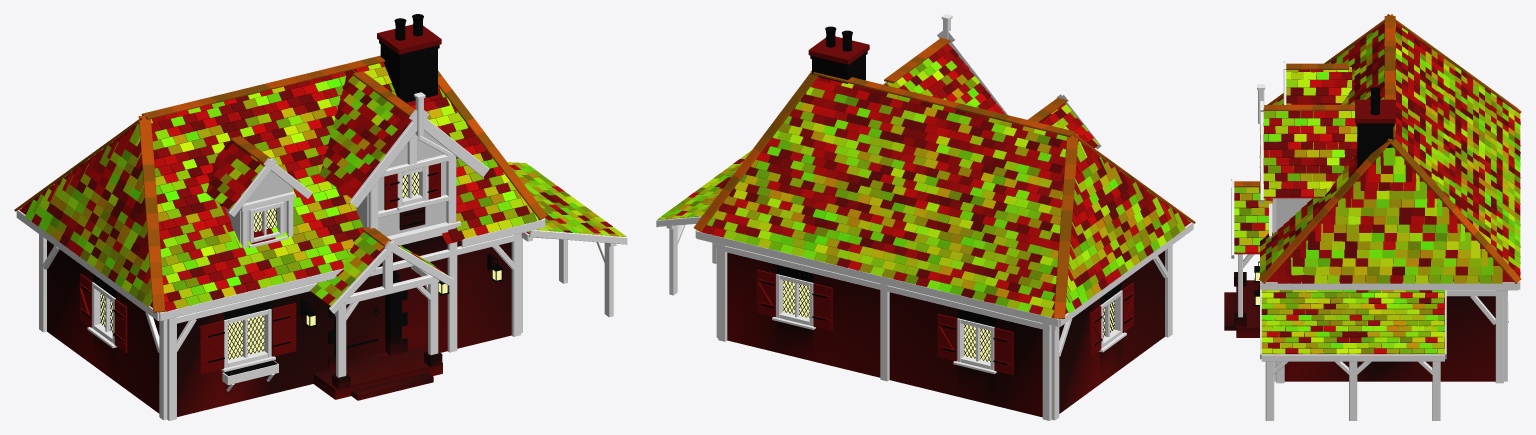
File: SilverbrookFarmhouse.fbx
3 renders of one model, left to right at view 1: azimuth 30°, elevation 25°; view 2: azimuth 150°, elevation 25°; view 3: azimuth 270°, elevation 25°, orthographic. The views are drawn at different scales.
Visible parts, largest first — view 1: SM_SBFarmhouse_Roof, SM_SBFarmhouse_Masonry, SM_SBFarmhouse_Timber, SM_SBFarmhouse_Details, SM_SBFarmhouse_Plaster; view 2: SM_SBFarmhouse_Roof, SM_SBFarmhouse_Masonry, SM_SBFarmhouse_Timber, SM_SBFarmhouse_Details; view 3: SM_SBFarmhouse_Roof, SM_SBFarmhouse_Masonry, SM_SBFarmhouse_Timber, SM_SBFarmhouse_Plaster, SM_SBFarmhouse_Details.
Part boxes in pixels (left/top/right/bottom): SM_SBFarmhouse_Roof: left=14, top=55, right=626, bottom=312; SM_SBFarmhouse_Masonry: left=47, top=24, right=511, bottom=416; SM_SBFarmhouse_Timber: left=16, top=92, right=627, bottom=420; SM_SBFarmhouse_Details: left=79, top=14, right=503, bottom=375; SM_SBFarmhouse_Plaster: left=225, top=130, right=450, bottom=243; SM_SBFarmhouse_Roof: left=657, top=37, right=1195, bottom=318; SM_SBFarmhouse_Masonry: left=727, top=36, right=1164, bottom=417; SM_SBFarmhouse_Timber: left=656, top=14, right=1193, bottom=420; SM_SBFarmhouse_Details: left=756, top=26, right=1134, bottom=375; SM_SBFarmhouse_Roof: left=1234, top=14, right=1521, bottom=354; SM_SBFarmhouse_Masonry: left=1224, top=99, right=1495, bottom=381; SM_SBFarmhouse_Timber: left=1231, top=61, right=1520, bottom=420; SM_SBFarmhouse_Plaster: left=1276, top=198, right=1312, bottom=231; SM_SBFarmhouse_Details: left=1254, top=87, right=1380, bottom=306.
Size of the model in its own units: 1181 by 689 by 705.
